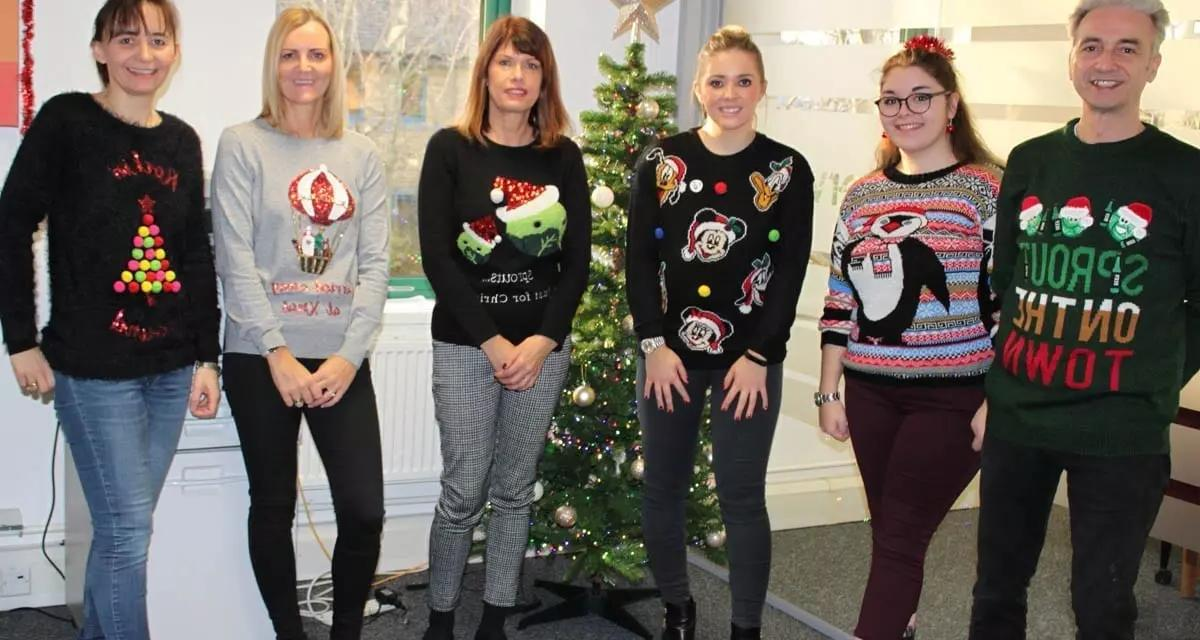sweater: (988, 115, 1200, 463), (0, 87, 222, 371), (210, 116, 390, 365), (626, 127, 818, 360), (812, 162, 1005, 380), (415, 126, 594, 349)
trousers: (220, 349, 387, 640), (967, 427, 1175, 640), (44, 363, 202, 640), (424, 334, 578, 614), (632, 352, 786, 631), (839, 373, 991, 640)
